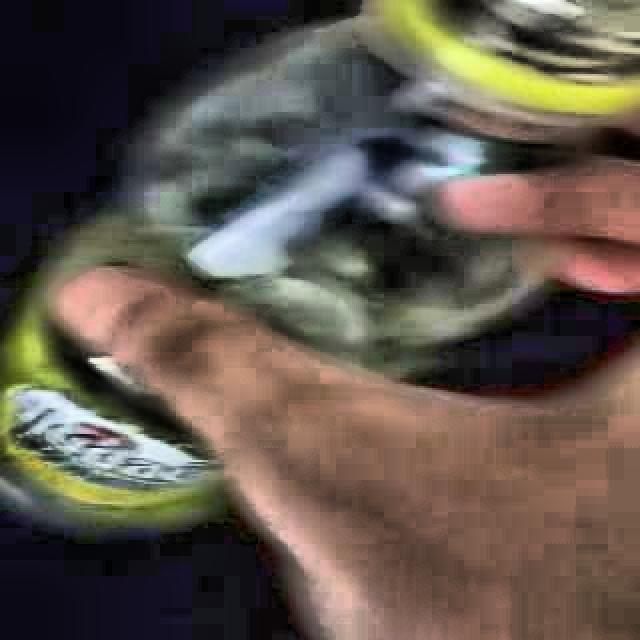plastic: (56, 0, 640, 376), (0, 300, 219, 524)
